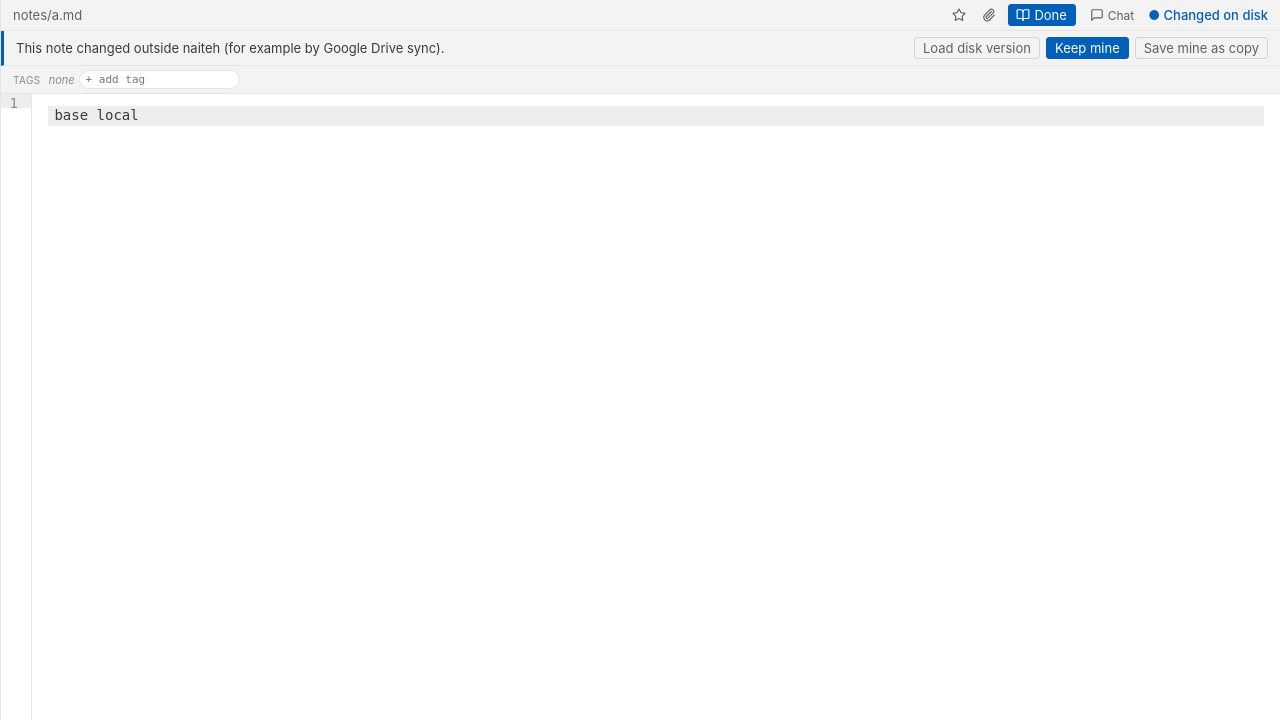
Test: EditorPanel changed-on-disk conflict › Save mine as copy writes a .local copy, then shows the disk version
Click the button with test id "external-change-copy" at (1201, 48), box 1135,37 -> 1268,59
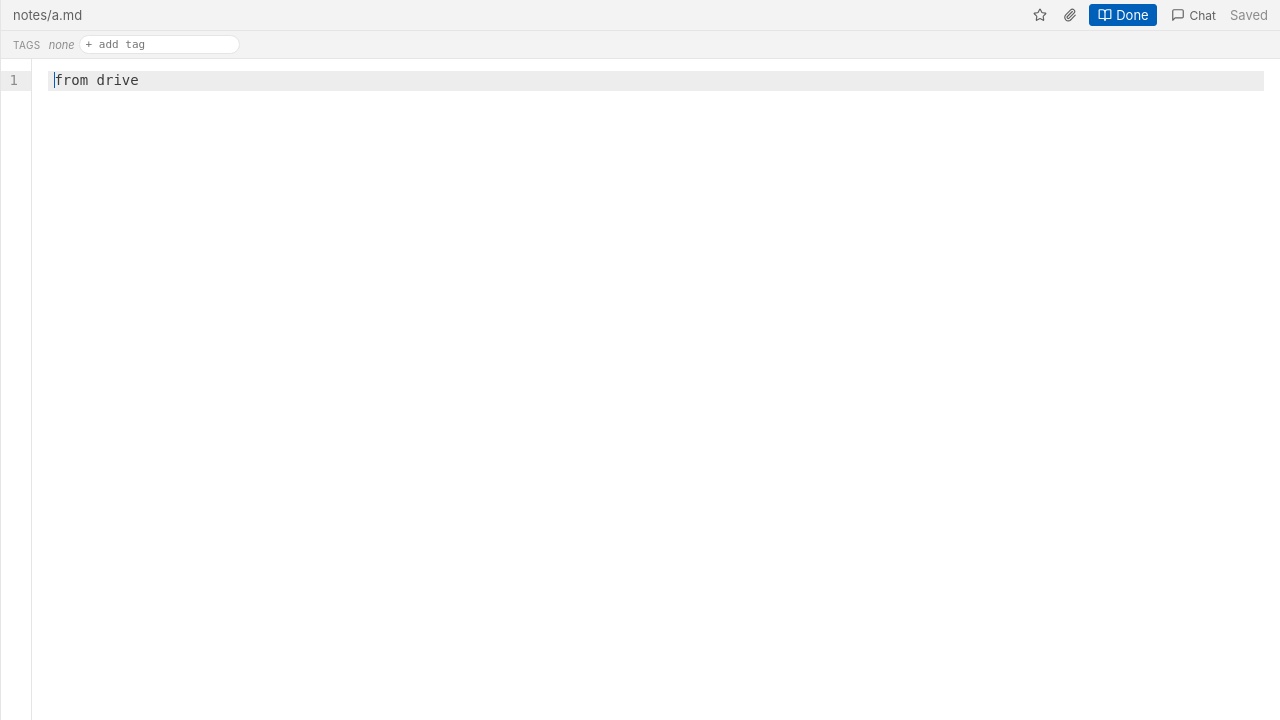
Result: the text box labelled "from drive" is shown at 48,71 -> 1264,91
